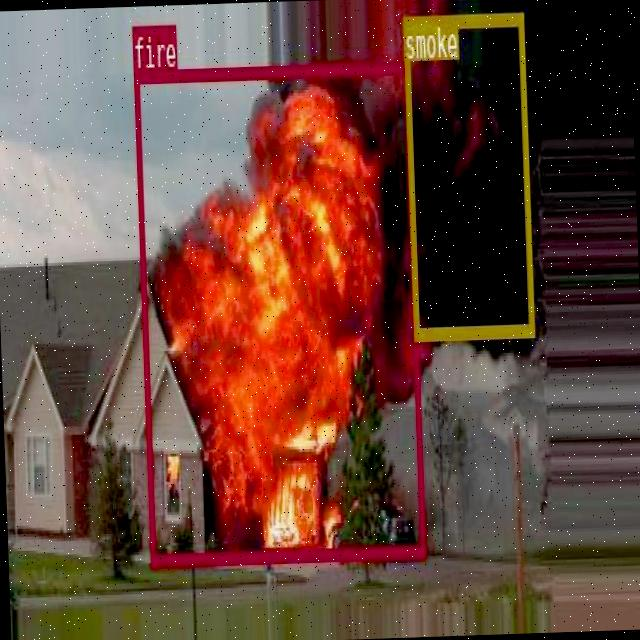fire: (132, 59, 425, 565)
smoke: (402, 10, 533, 338)
